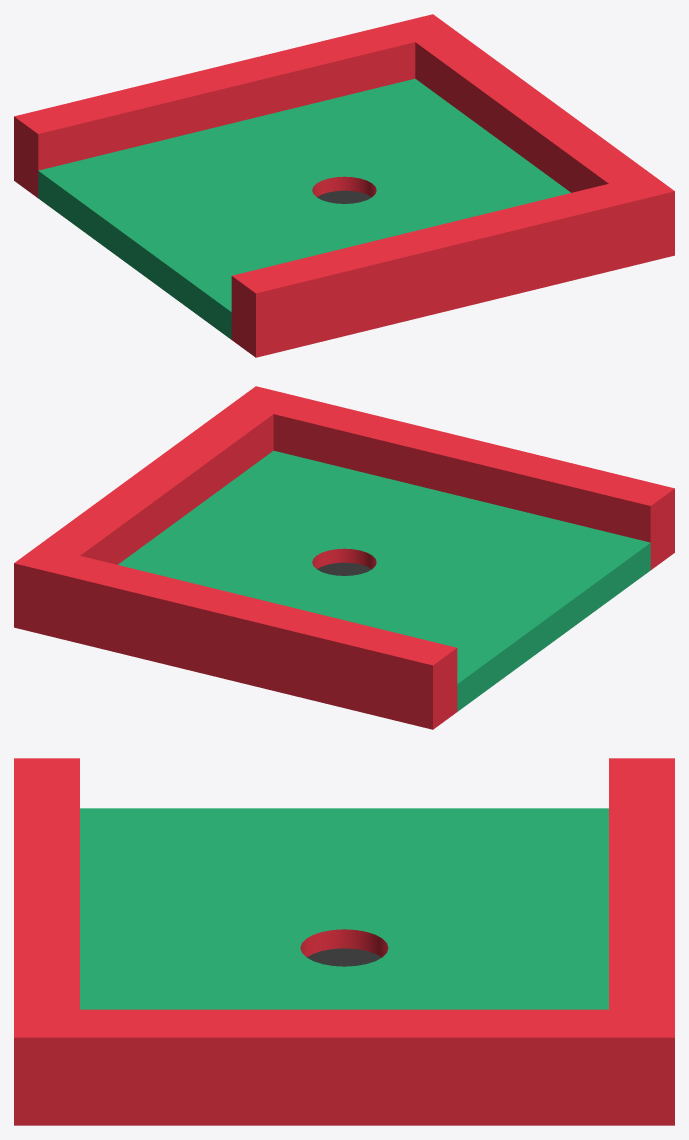
Rendered from holeSquare.obj.
The picture shows the model from 3 angles, top to bottom: view 1: azimuth 30°, elevation 25°; view 2: azimuth 150°, elevation 25°; view 3: azimuth 270°, elevation 25°; orthographic projection. The views are drawn at different scales.
Visible parts, largest first — view 1: holeSquare; view 2: holeSquare; view 3: holeSquare.
Boxes of the visible parts, x1,y1,x2,y2 form: holeSquare: (14,14,674,357); holeSquare: (14,386,674,729); holeSquare: (14,758,674,1125).
Size of the model in its own units: 0.9999 by 0.1467 by 0.9999.
